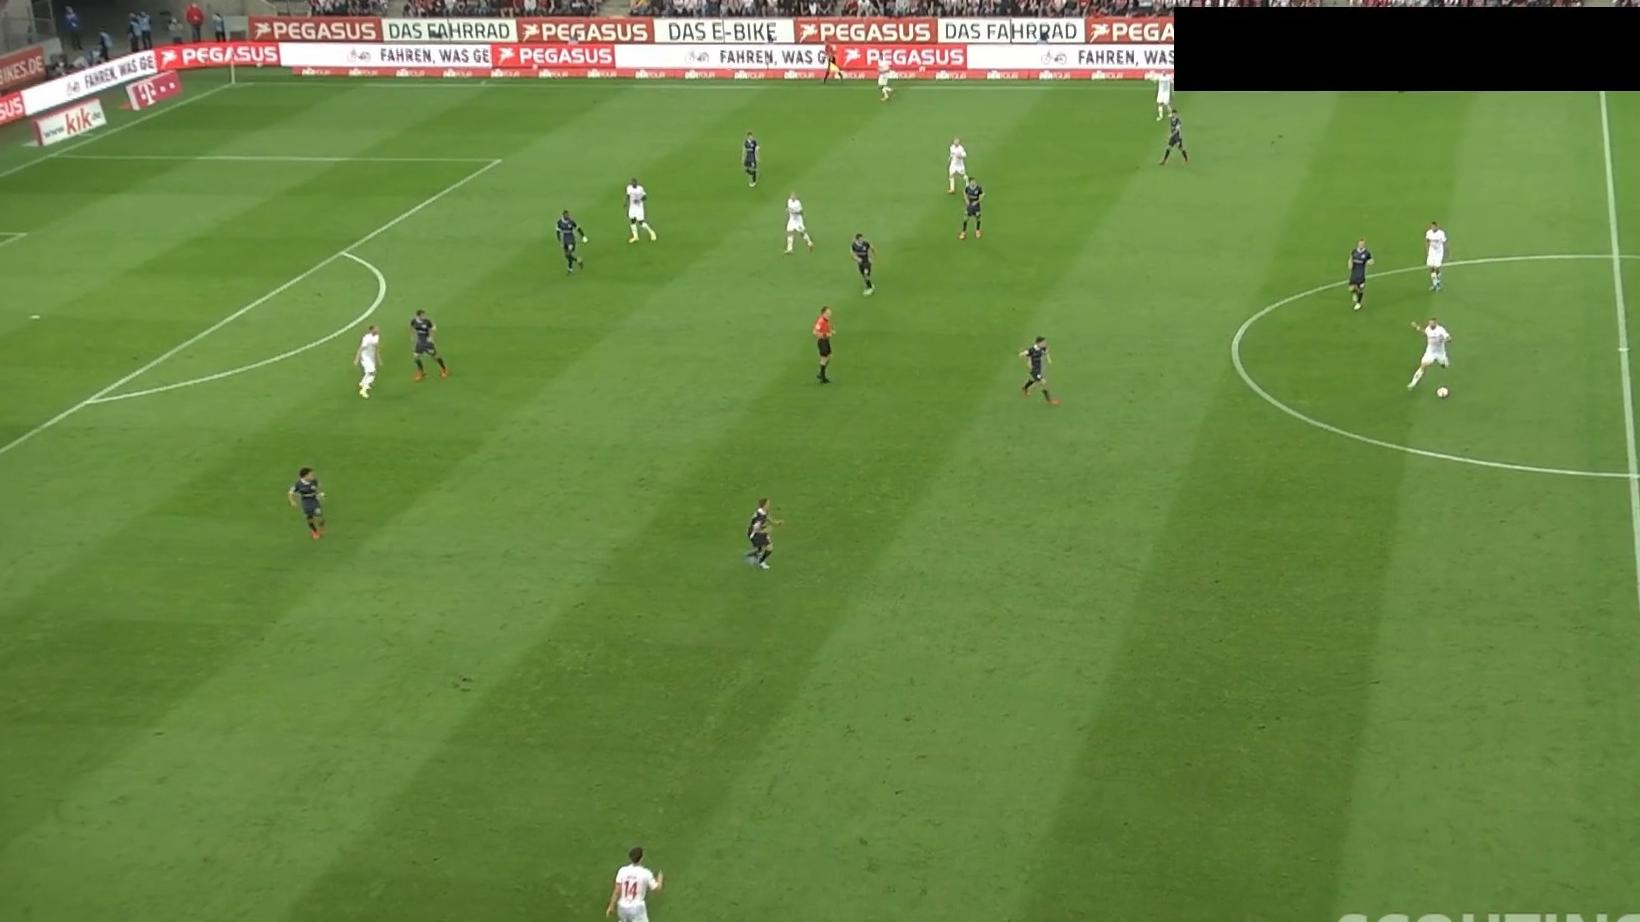ball: (1435, 385, 1450, 400)
